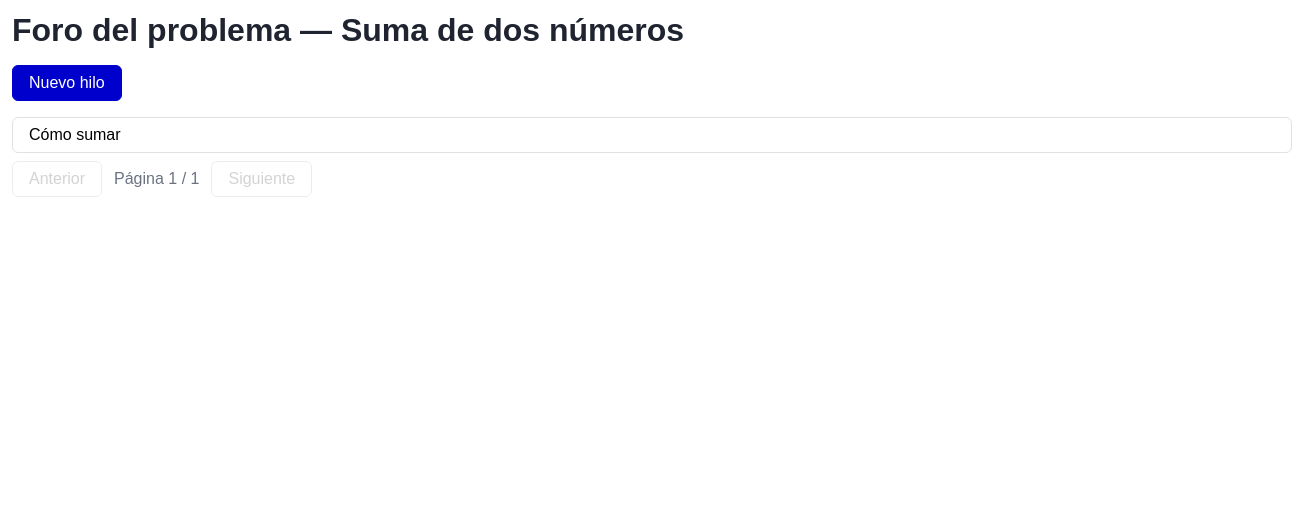
Test: ThreadDetail — nested reply tree › renders an inline ReplyBox at every post, not just the root
This screenshot has width=1304, height=519.
Expected: the element with test id "forum-page" is shown, [12,12,1292,197]
Click the button with test id "thread-2". click: (75, 134)
box: [12,117,1292,153]
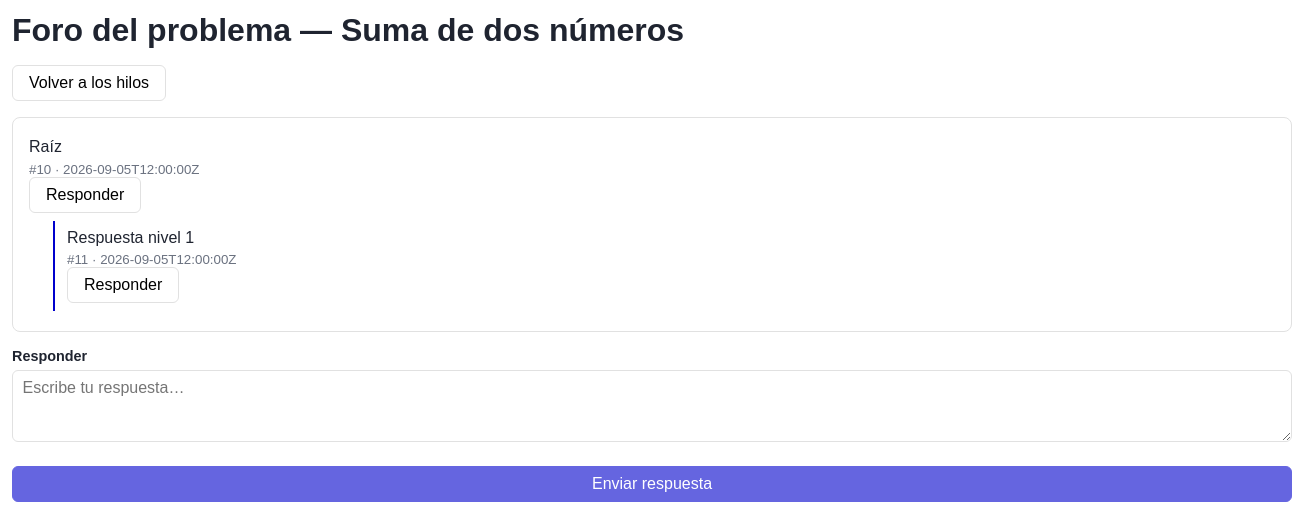
Result: the element with test id "thread-detail" is shown
Result: the button with test id "reply-to-10" is shown at [29,177,141,213]
Result: the button with test id "reply-to-11" is shown
Click the button with test id "reply-to-11". click: (123, 285)
box: [67,267,179,303]
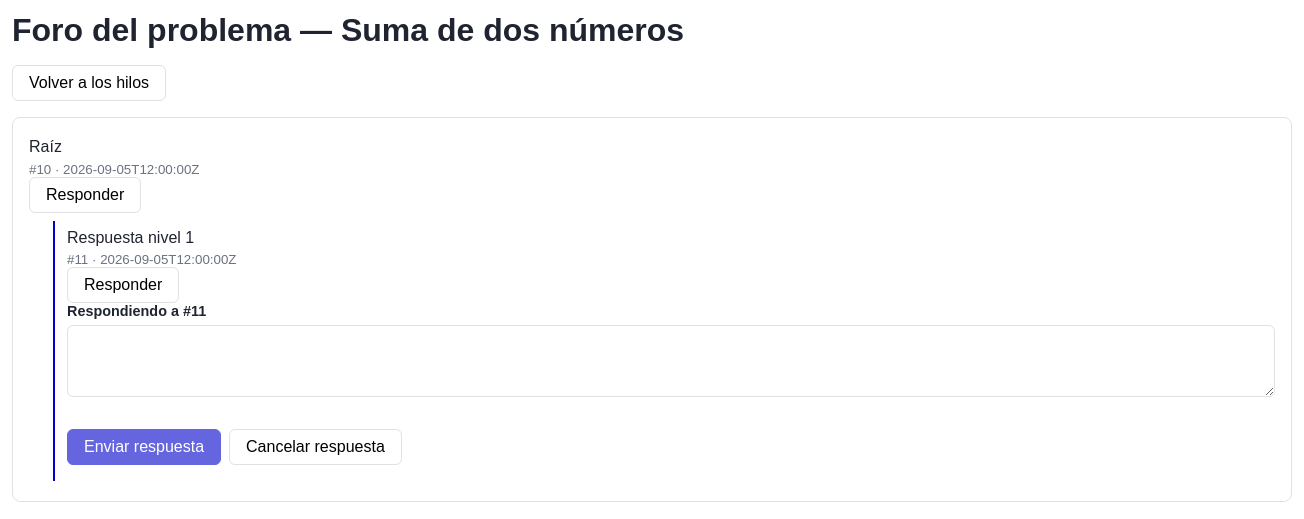
Result: the form with test id "reply-form-11" is shown at [67,303,1275,473]
